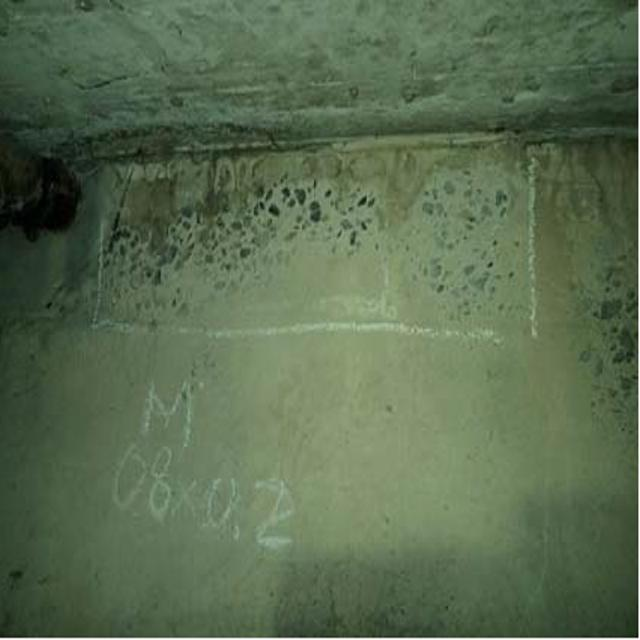spalling: (90, 180, 524, 330)
